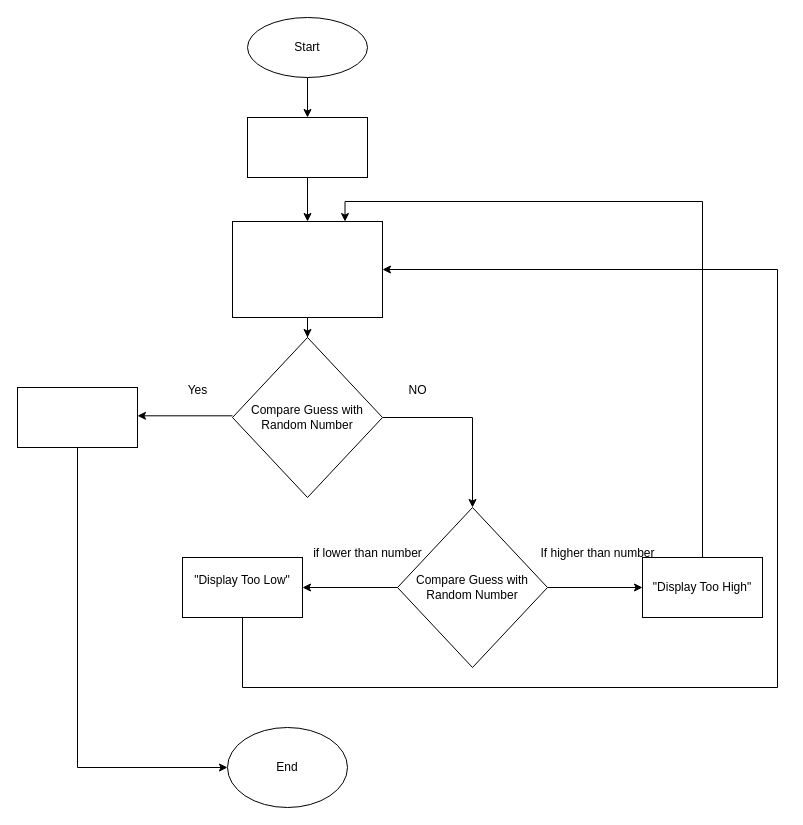
This 803x825 diagram has some shape labels left out. Here are the shapes that lost their labels. From the top down, the centre of each, then its label:
(307,147): Generate Random Number
(307,269): Prompt User to Guess
(77,417): "Display Congratulations!"
